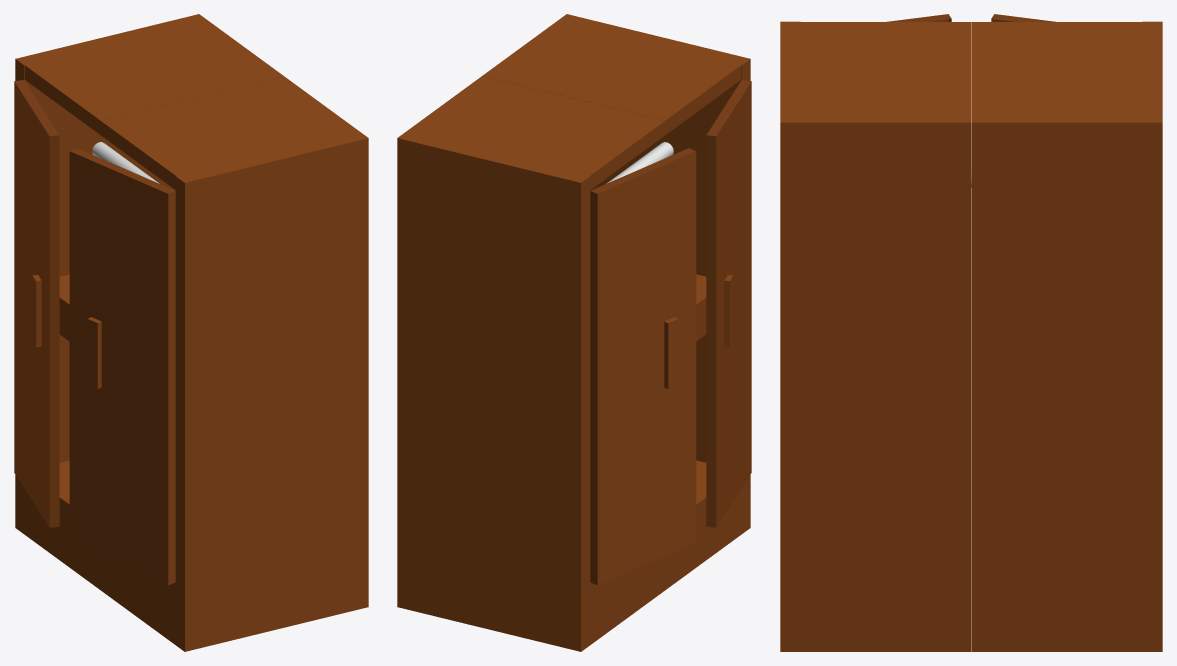
File: ARMARIODNV.fbx
3 renders of one model, left to right at view 1: azimuth 30°, elevation 25°; view 2: azimuth 150°, elevation 25°; view 3: azimuth 270°, elevation 25°, orthographic. The views are drawn at different scales.
Parts seen in each view (by area): view 1: Cube, Cylinder; view 2: Cube, Cylinder; view 3: Cube.
Part boxes in pixels (left/top/right/bottom): Cube: left=14, top=14, right=368, bottom=651; Cylinder: left=92, top=142, right=159, bottom=183; Cube: left=397, top=14, right=751, bottom=651; Cylinder: left=606, top=142, right=673, bottom=183; Cube: left=780, top=14, right=1162, bottom=651.
Size of the model in its own units: 886 by 1771 by 1161.
